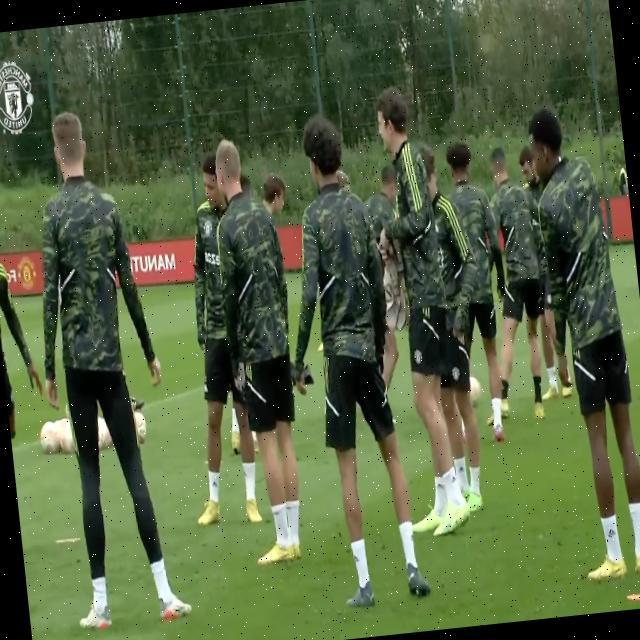Adidas: (605, 522, 618, 541)
